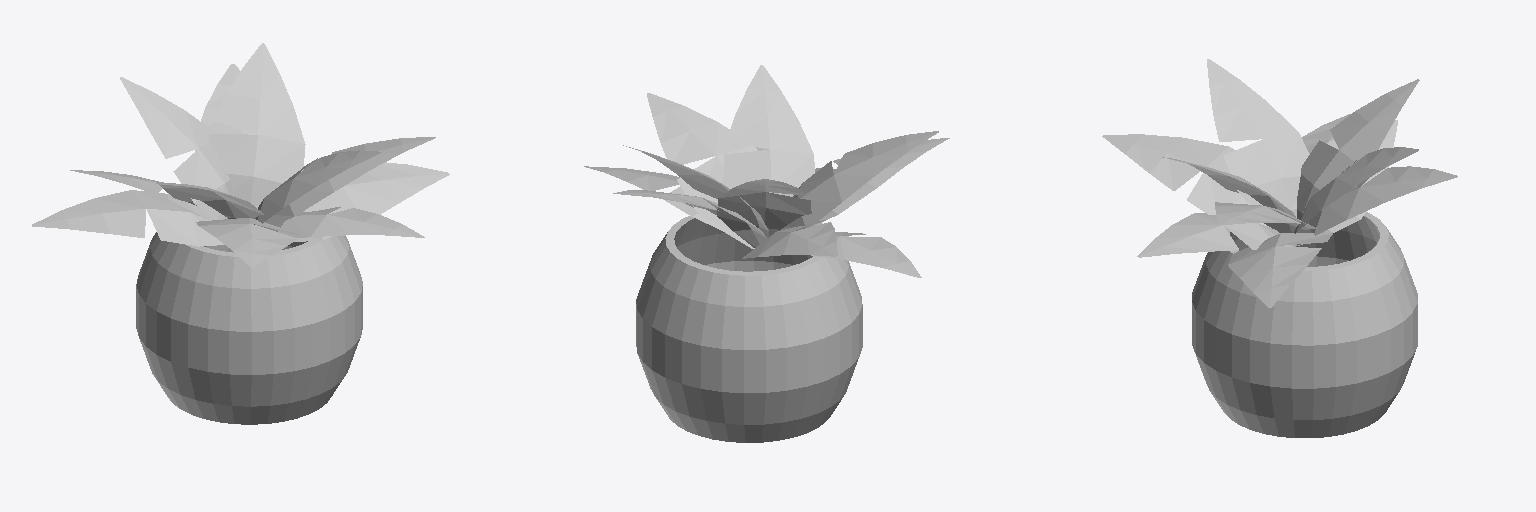
File: Main_Bar_Planter_Large.obj
3 renders of one model, left to right at view 1: azimuth 30°, elevation 25°; view 2: azimuth 150°, elevation 25°; view 3: azimuth 270°, elevation 25°, orthographic.
Visible parts, largest first — view 1: Pot_large_tall_Cylinder.004; view 2: Pot_large_tall_Cylinder.004; view 3: Pot_large_tall_Cylinder.004.
Boxes of the visible parts, <box> form: Pot_large_tall_Cylinder.004: <box>32,43,449,424</box>; Pot_large_tall_Cylinder.004: <box>584,65,949,442</box>; Pot_large_tall_Cylinder.004: <box>1102,59,1457,437</box>.
Bounding box in the file's own units: 100 × 73.22 × 82.05.